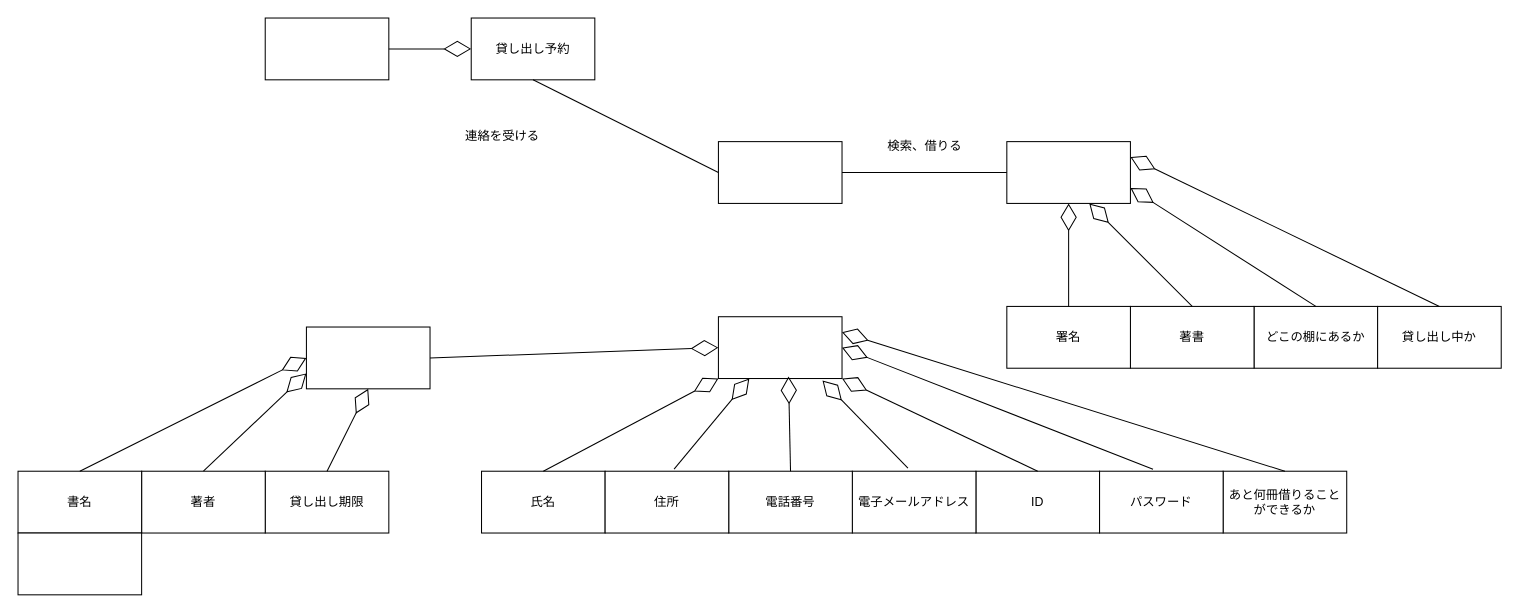
Image size: 1519x613. Some labels were removed from this diagram. The shapes that lost their labels are listed below. From the top down, each one's centre as x and y in pixels, then its label:
(x=326, y=48): 必要事項
(x=779, y=172): 利用者
(x=1068, y=172): 図書
(x=367, y=357): 借りている本
(x=779, y=347): 図書カード
(x=79, y=563): 本のID
